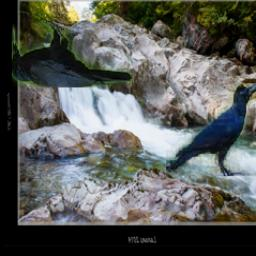Crow: (166, 83, 256, 176), (12, 22, 132, 88)
